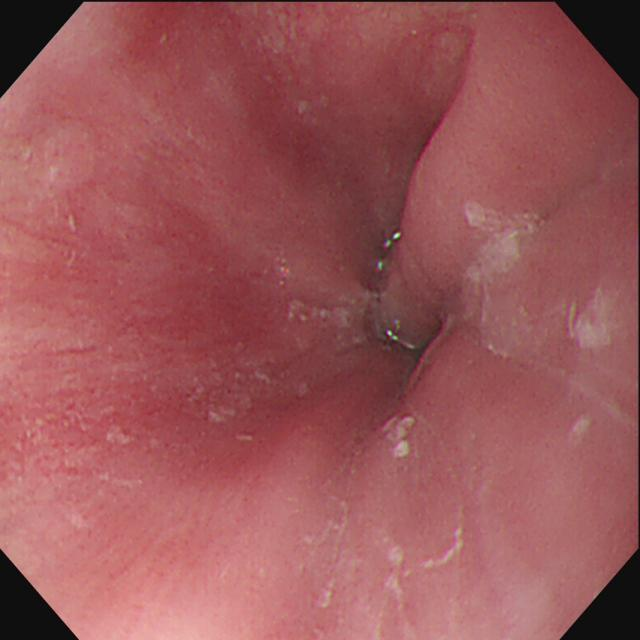I: (326, 153, 465, 417)
J: (458, 200, 620, 368), (271, 256, 365, 352), (172, 355, 281, 433), (377, 527, 475, 606), (381, 412, 423, 465)
U: (381, 232, 404, 253), (388, 331, 402, 345)
